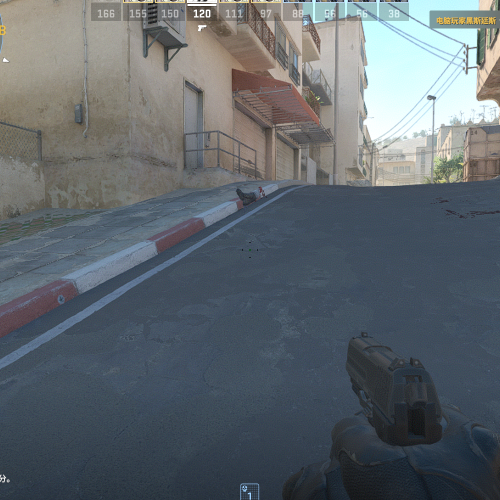chicken: (234, 184, 266, 210)
